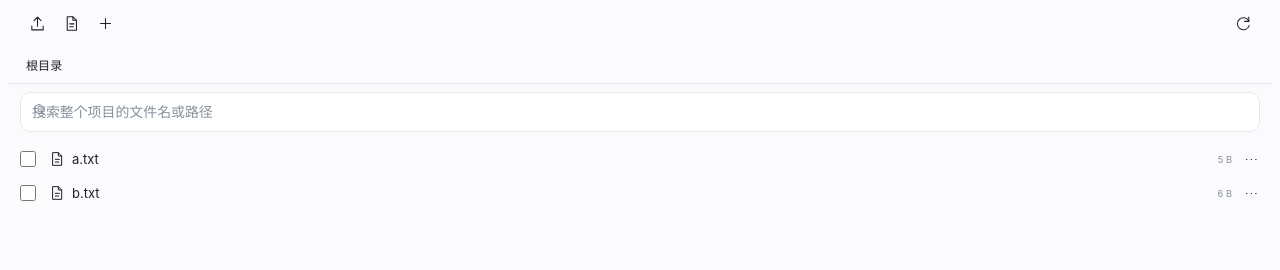
Test case: deletes checked files in batch after confirmation and refreshes the list
The width and height of the screenshot is (1280, 270).
Click the checkbox named "选择 a.txt" at (28, 159), box [20,151,36,167]
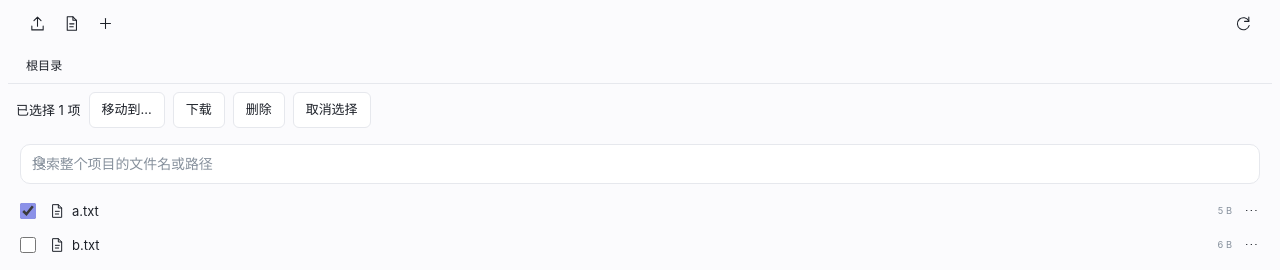
Click the checkbox named "选择 b.txt" at (28, 244), box [20,236,36,252]
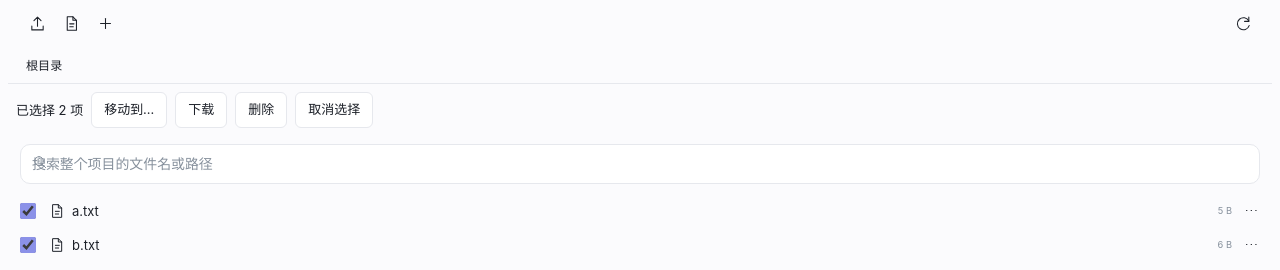
expect the button "下载" is shown: met, box [175,92,227,128]
expect the text "已选择 2 项" is shown: met, box [16,102,83,118]
Click the button "删除" at (261, 110), box [235,92,287,128]
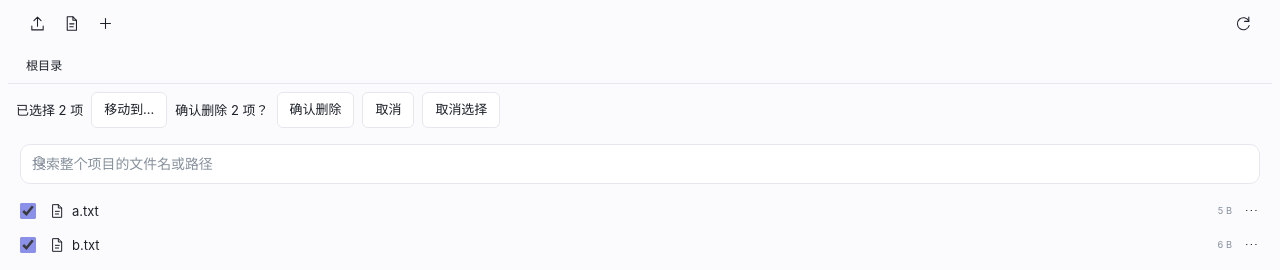
expect the text "确认删除 2 项？" is shown: met, box [175,100,268,119]
Click the button "确认删除" at (315, 110), box [276,92,354,128]
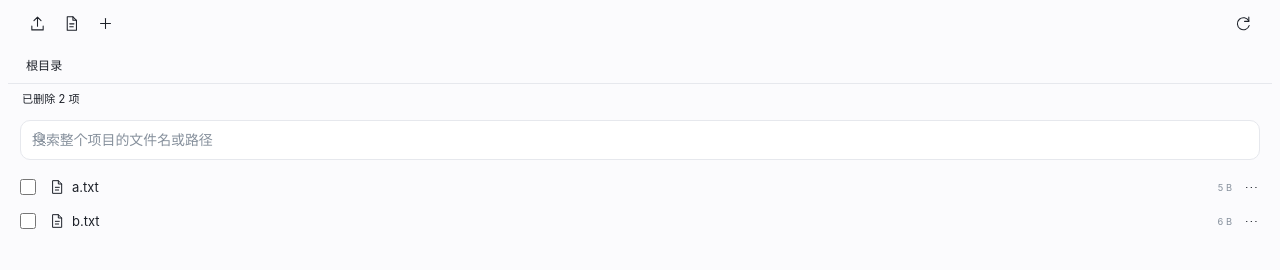
expect the text "已删除 2 项" is shown: met, box [22,92,80,106]
